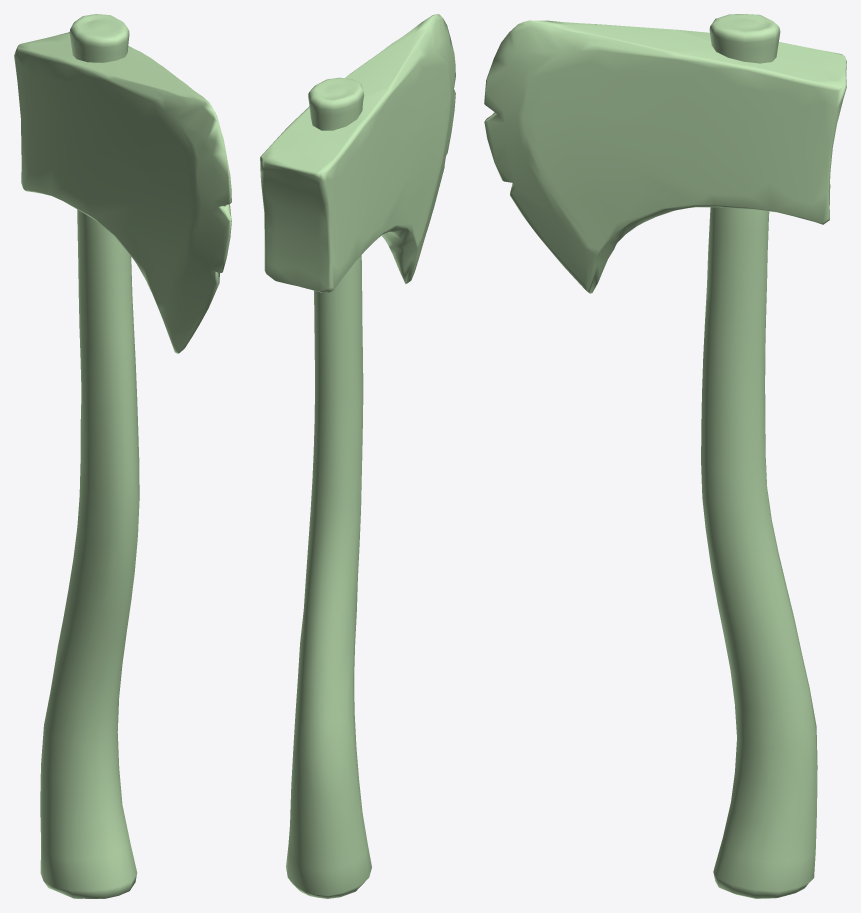
File: Woodaxe_new.fbx
3 views of the same model, side by side, from view 1: azimuth 30°, elevation 25°; view 2: azimuth 150°, elevation 25°; view 3: azimuth 270°, elevation 25° (orthographic). The views are drawn at different scales.
Visible parts, largest first — view 1: Axe_handle_bottom:Group50341, Axe_blade:Group10199, Axe_handle_top:ZBrush_defualt_group; view 2: Axe_handle_bottom:Group50341, Axe_blade:Group10199, Axe_handle_top:ZBrush_defualt_group; view 3: Axe_blade:Group10199, Axe_handle_bottom:Group50341, Axe_handle_top:ZBrush_defualt_group.
Part boxes in pixels (x1=…): Axe_handle_bottom:Group50341: x1=40, y1=209, x2=139, y2=898; Axe_blade:Group10199: x1=14, y1=32, x2=231, y2=353; Axe_handle_top:ZBrush_defualt_group: x1=69, y1=14, x2=129, y2=62; Axe_handle_bottom:Group50341: x1=286, y1=255, x2=371, y2=898; Axe_blade:Group10199: x1=260, y1=14, x2=455, y2=292; Axe_handle_top:ZBrush_defualt_group: x1=308, y1=77, x2=364, y2=130; Axe_blade:Group10199: x1=484, y1=20, x2=846, y2=293; Axe_handle_bottom:Group50341: x1=701, y1=207, x2=817, y2=898; Axe_handle_top:ZBrush_defualt_group: x1=709, y1=14, x2=780, y2=63.
Size of the model in its own units: 32.32 by 332 by 126.
